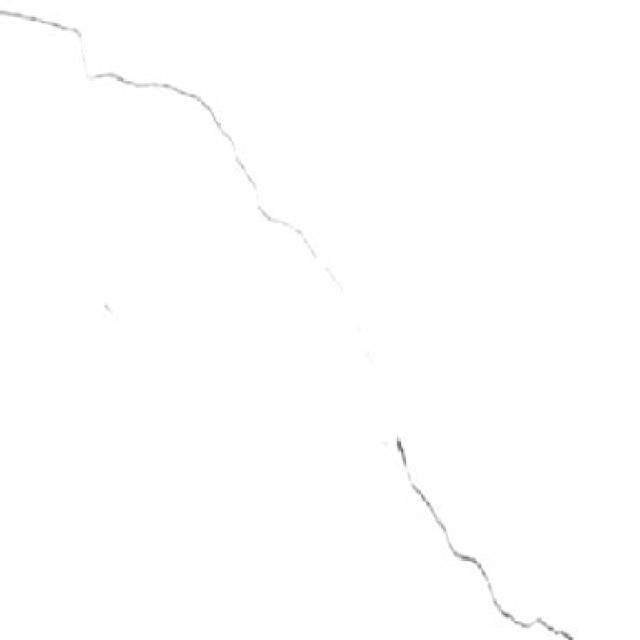Crack: (11, 9, 348, 283), (358, 410, 607, 640)
